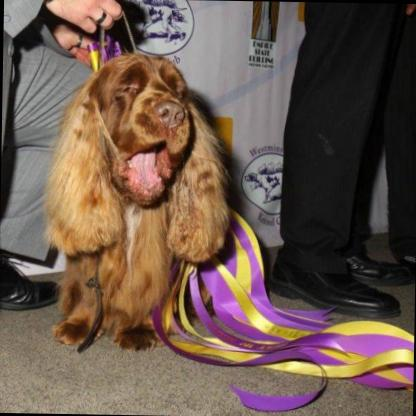Sussex_spaniel: (42, 47, 230, 350)
